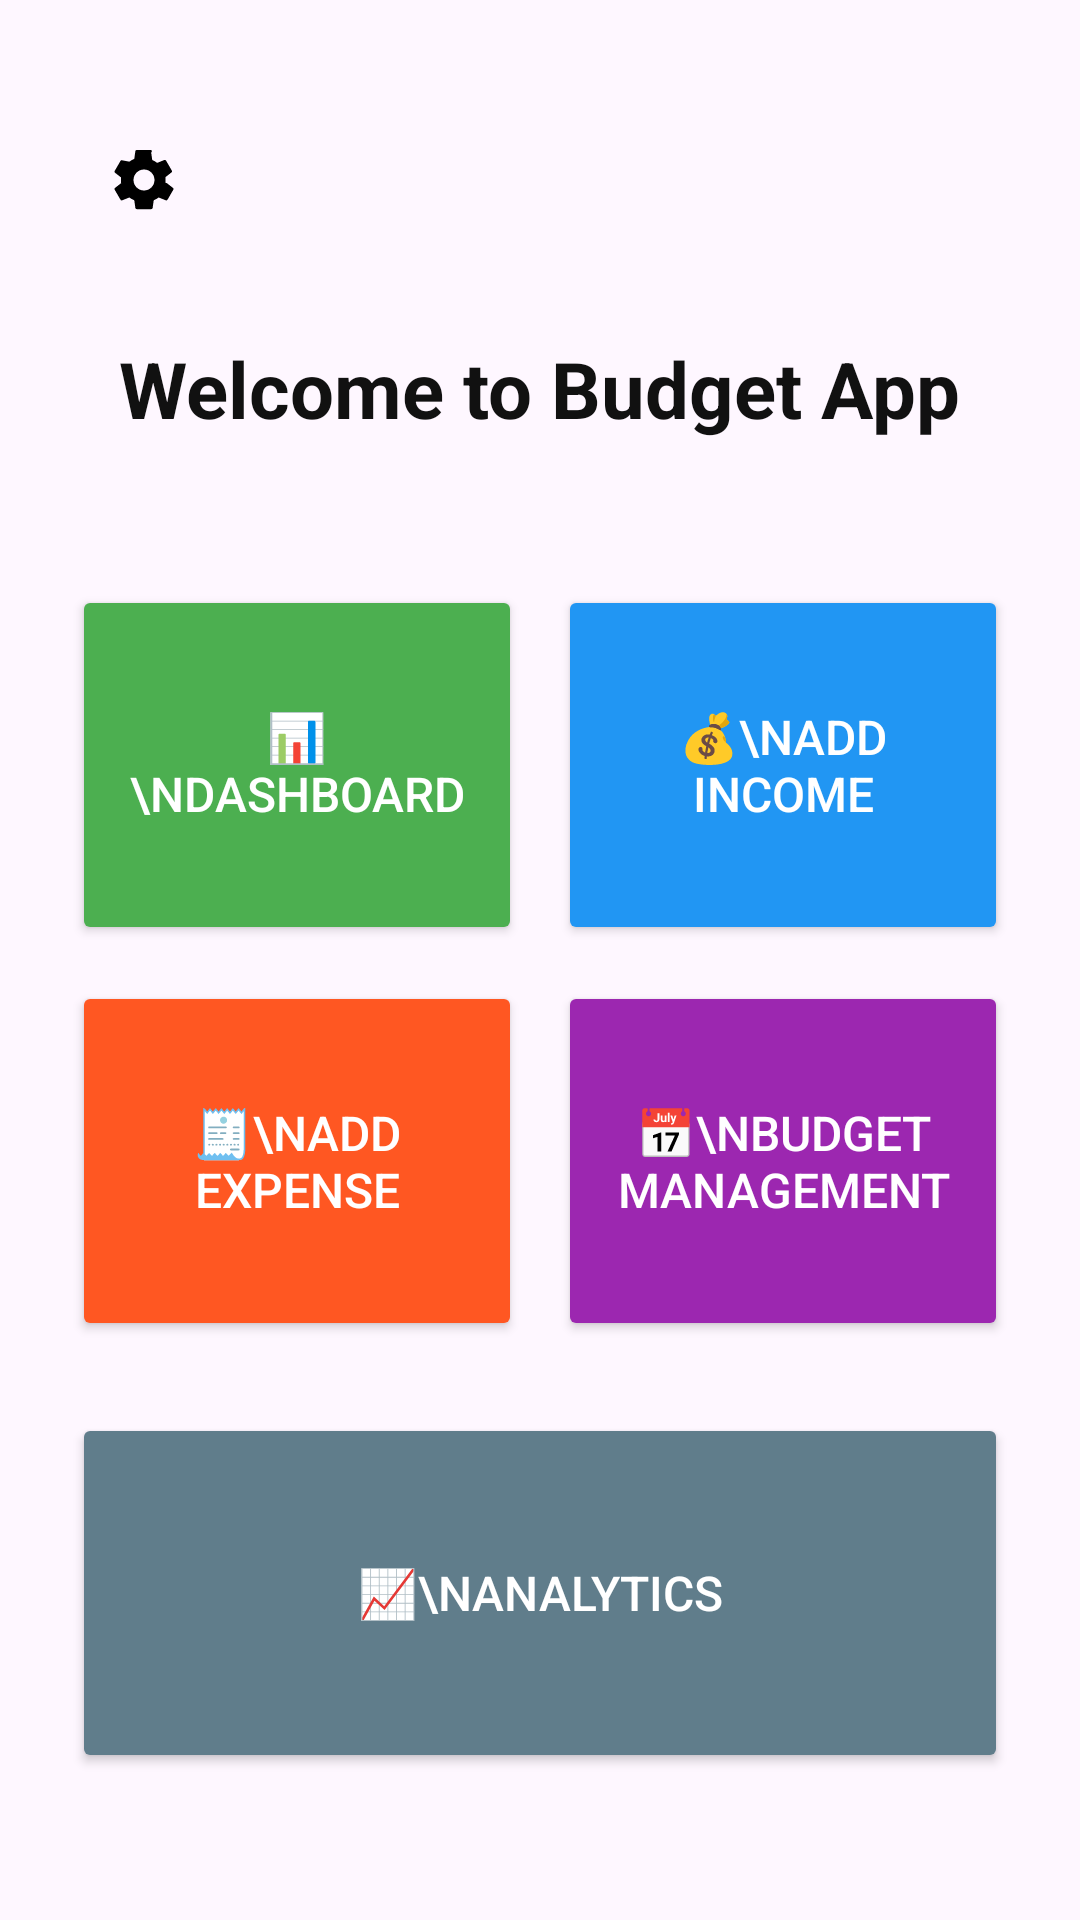

Locate icon controls on the screen. Image size 1080*1920, boxes as (x1, y1, x2, y2).
Setting: (114, 150, 174, 210)
